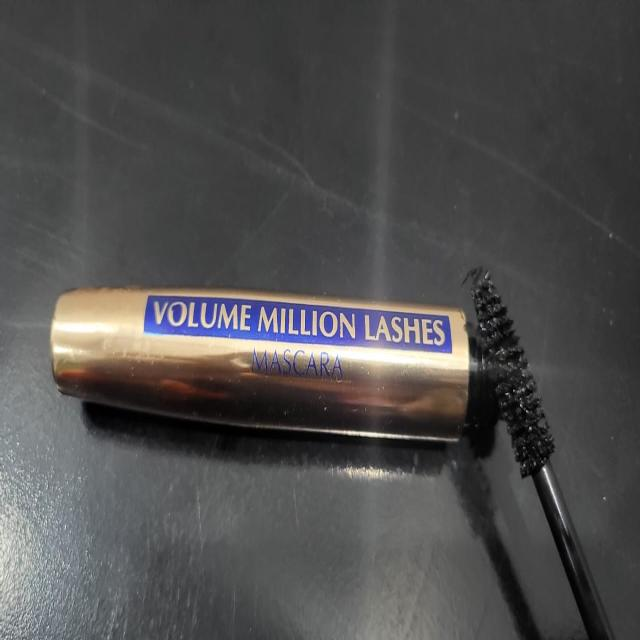mascara: (23, 258, 590, 532), (459, 249, 623, 640)
